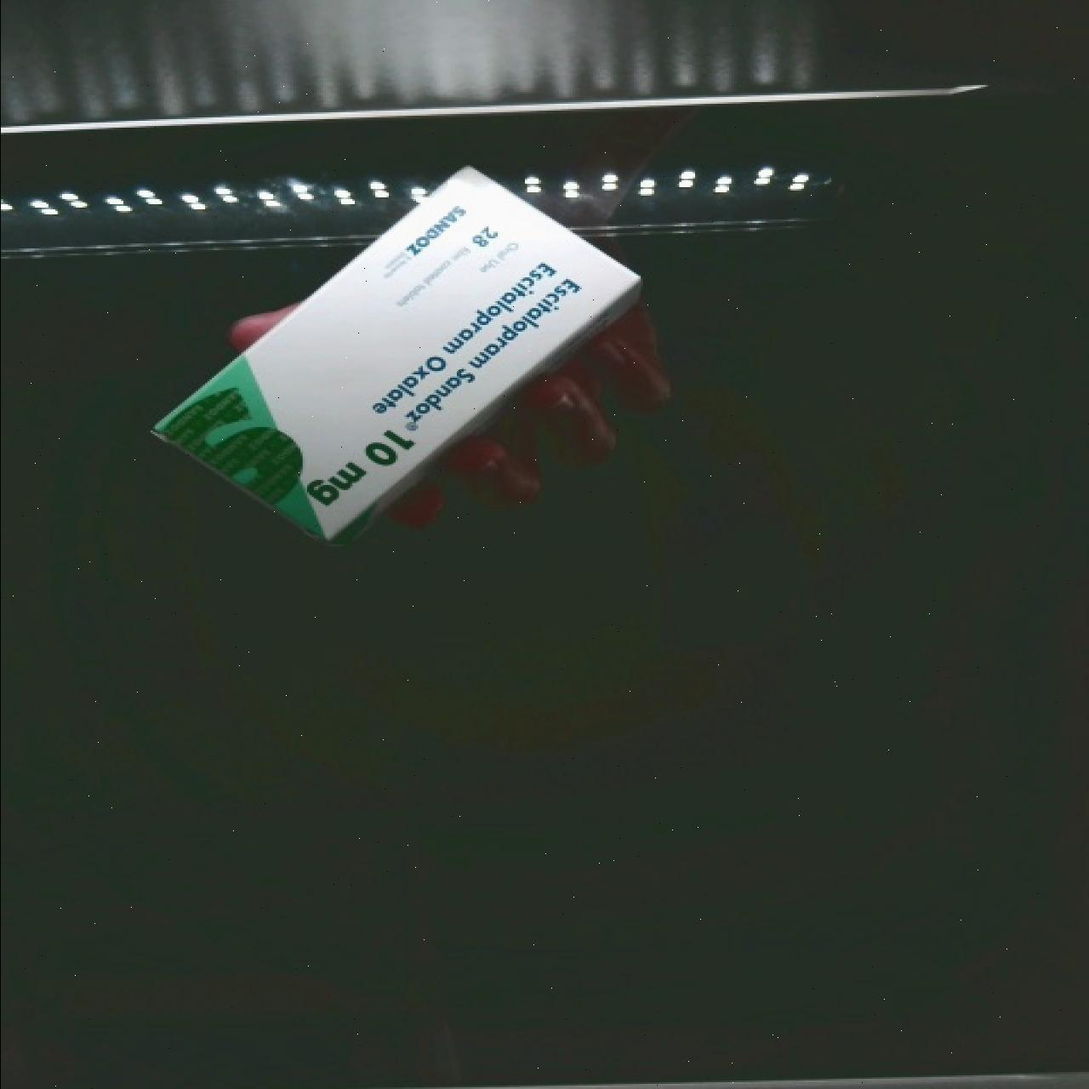medicine_label_obb: (350, 219, 621, 462)
